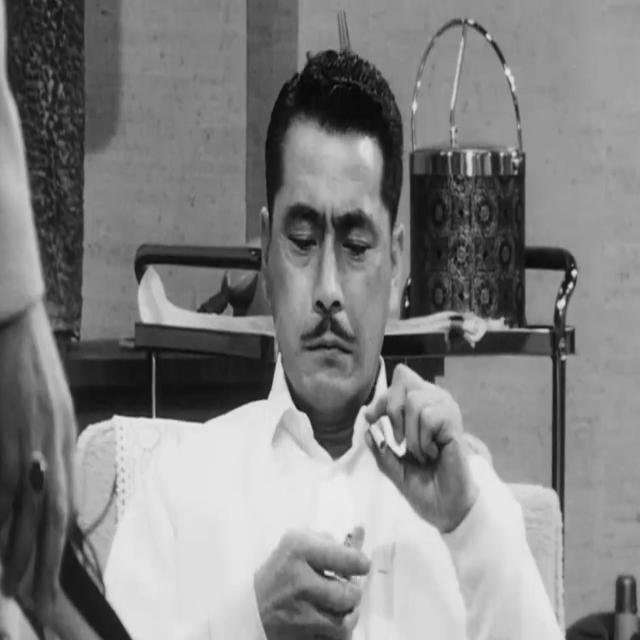Smooking: (371, 417, 386, 458)
